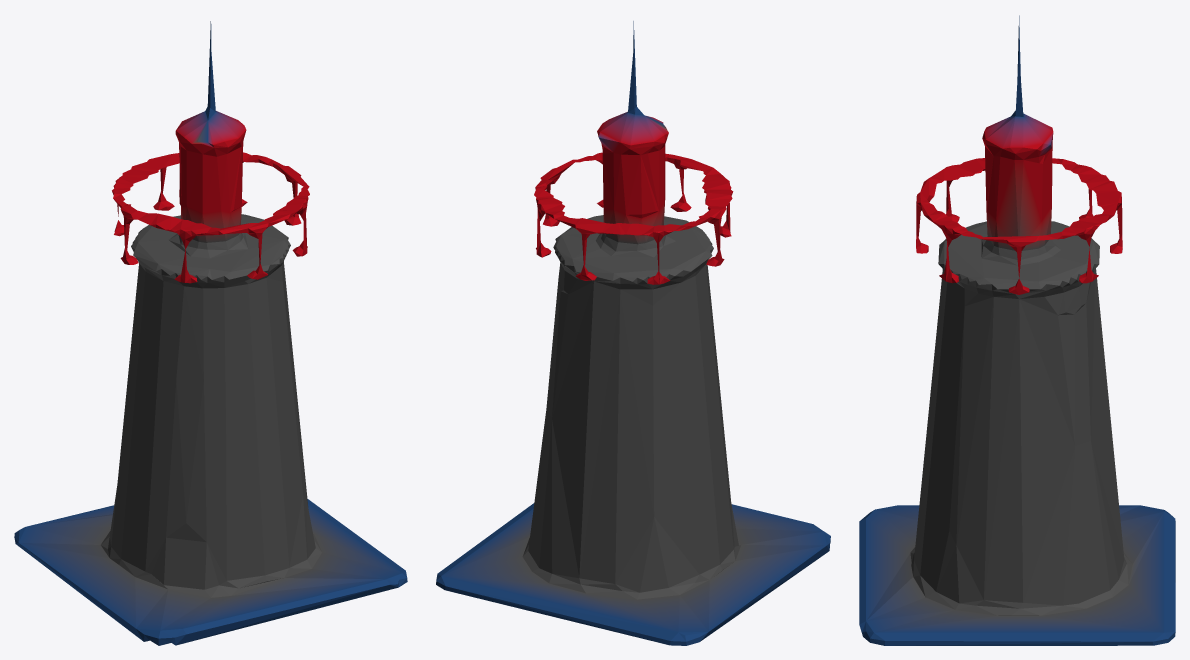
Rendered from Lighthouses.glb.
The picture shows the model from 3 angles, left to right: view 1: azimuth 30°, elevation 25°; view 2: azimuth 150°, elevation 25°; view 3: azimuth 270°, elevation 25°; orthographic projection. The views are drawn at different scales.
Visible parts, largest first — view 1: Root; view 2: Root; view 3: Root.
Boxes of the visible parts, left/top/right/bottom form: Root: left=14, top=21, right=407, bottom=645; Root: left=436, top=21, right=830, bottom=645; Root: left=859, top=15, right=1175, bottom=645.
Bounding box in the file's own units: 4.35 × 8.63 × 4.35.
